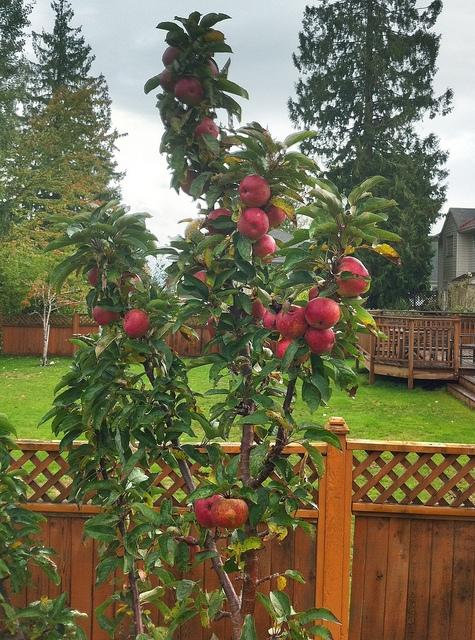apple: (336, 257, 368, 297), (276, 304, 310, 340), (211, 496, 249, 528), (304, 298, 340, 330), (238, 175, 270, 208), (237, 208, 269, 240), (194, 494, 224, 528), (276, 337, 310, 366), (304, 326, 335, 354), (174, 77, 204, 105), (122, 309, 150, 338), (180, 170, 211, 195), (208, 208, 235, 236), (252, 234, 277, 264), (93, 305, 120, 326), (265, 204, 287, 228), (181, 536, 200, 563), (242, 299, 264, 321), (194, 118, 218, 138), (208, 316, 228, 338), (160, 69, 176, 95), (308, 280, 326, 302), (120, 273, 142, 291), (162, 46, 180, 67), (262, 310, 278, 331), (88, 266, 98, 286), (192, 270, 206, 284), (206, 60, 217, 77)
